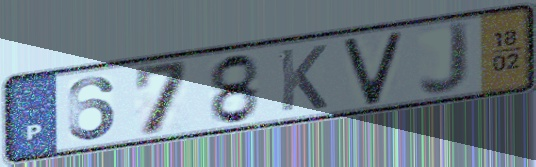6: (66, 74, 119, 143)
7: (131, 58, 193, 139)
8: (205, 49, 262, 127)
J: (415, 19, 473, 98)
K: (276, 42, 330, 114)
V: (340, 27, 406, 108)
